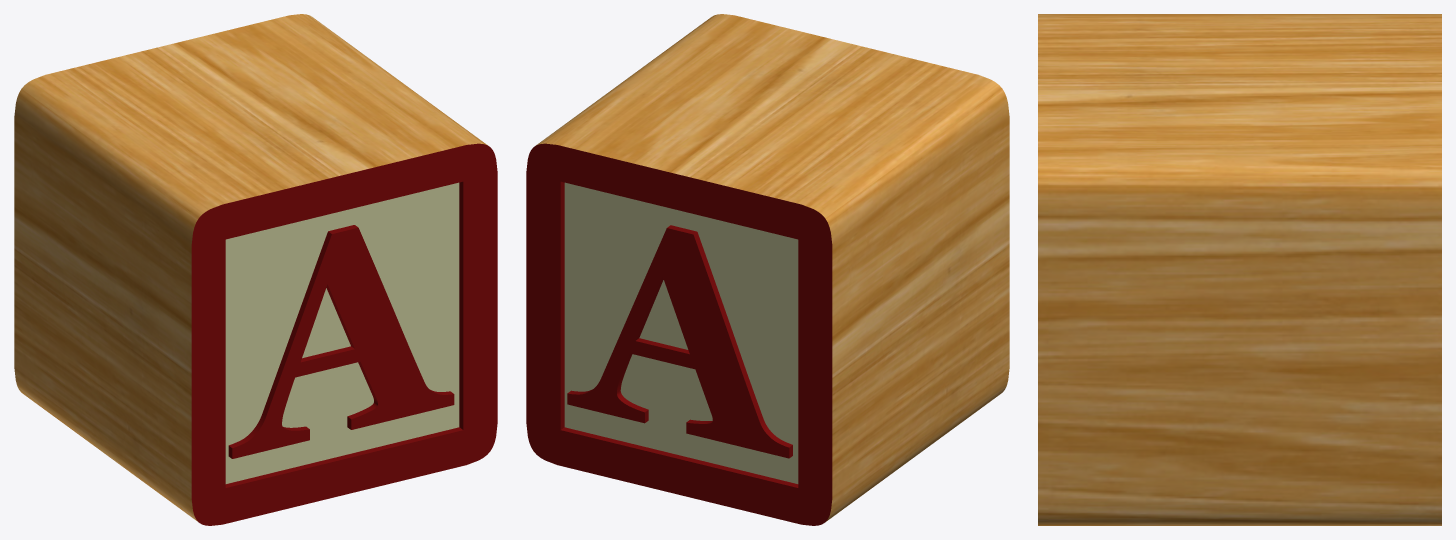
File: block_A.obj
The picture shows the model from 3 angles, left to right: view 1: azimuth 30°, elevation 25°; view 2: azimuth 150°, elevation 25°; view 3: azimuth 270°, elevation 25°; orthographic projection. The views are drawn at different scales.
Parts seen in each view (by area): view 1: Cube_Cube.006, Plane, A_Text.002; view 2: Cube_Cube.006, Plane, A_Text.002; view 3: Cube_Cube.006.
Boxes of the visible parts, x1=… form: Cube_Cube.006: x1=14, y1=14, x2=487, y2=521; Plane: x1=191, y1=143, x2=497, y2=525; A_Text.002: x1=228, y1=225, x2=454, y2=458; Cube_Cube.006: x1=536, y1=14, x2=1009, y2=521; Plane: x1=526, y1=143, x2=832, y2=525; A_Text.002: x1=567, y1=225, x2=792, y2=458; Cube_Cube.006: x1=1038, y1=14, x2=1441, y2=525.
Bounding box in the file's own units: 1.99 × 1.99 × 2.
Materials: 3 (1 with a texture image).
